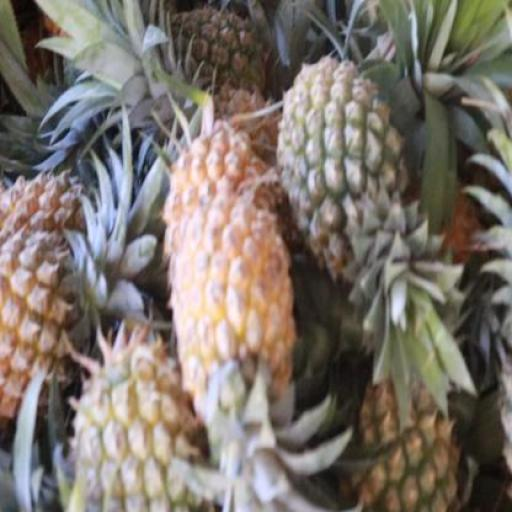------------------------------: (282, 56, 410, 254)
Pineapple - v8 v1: (176, 210, 290, 453)
